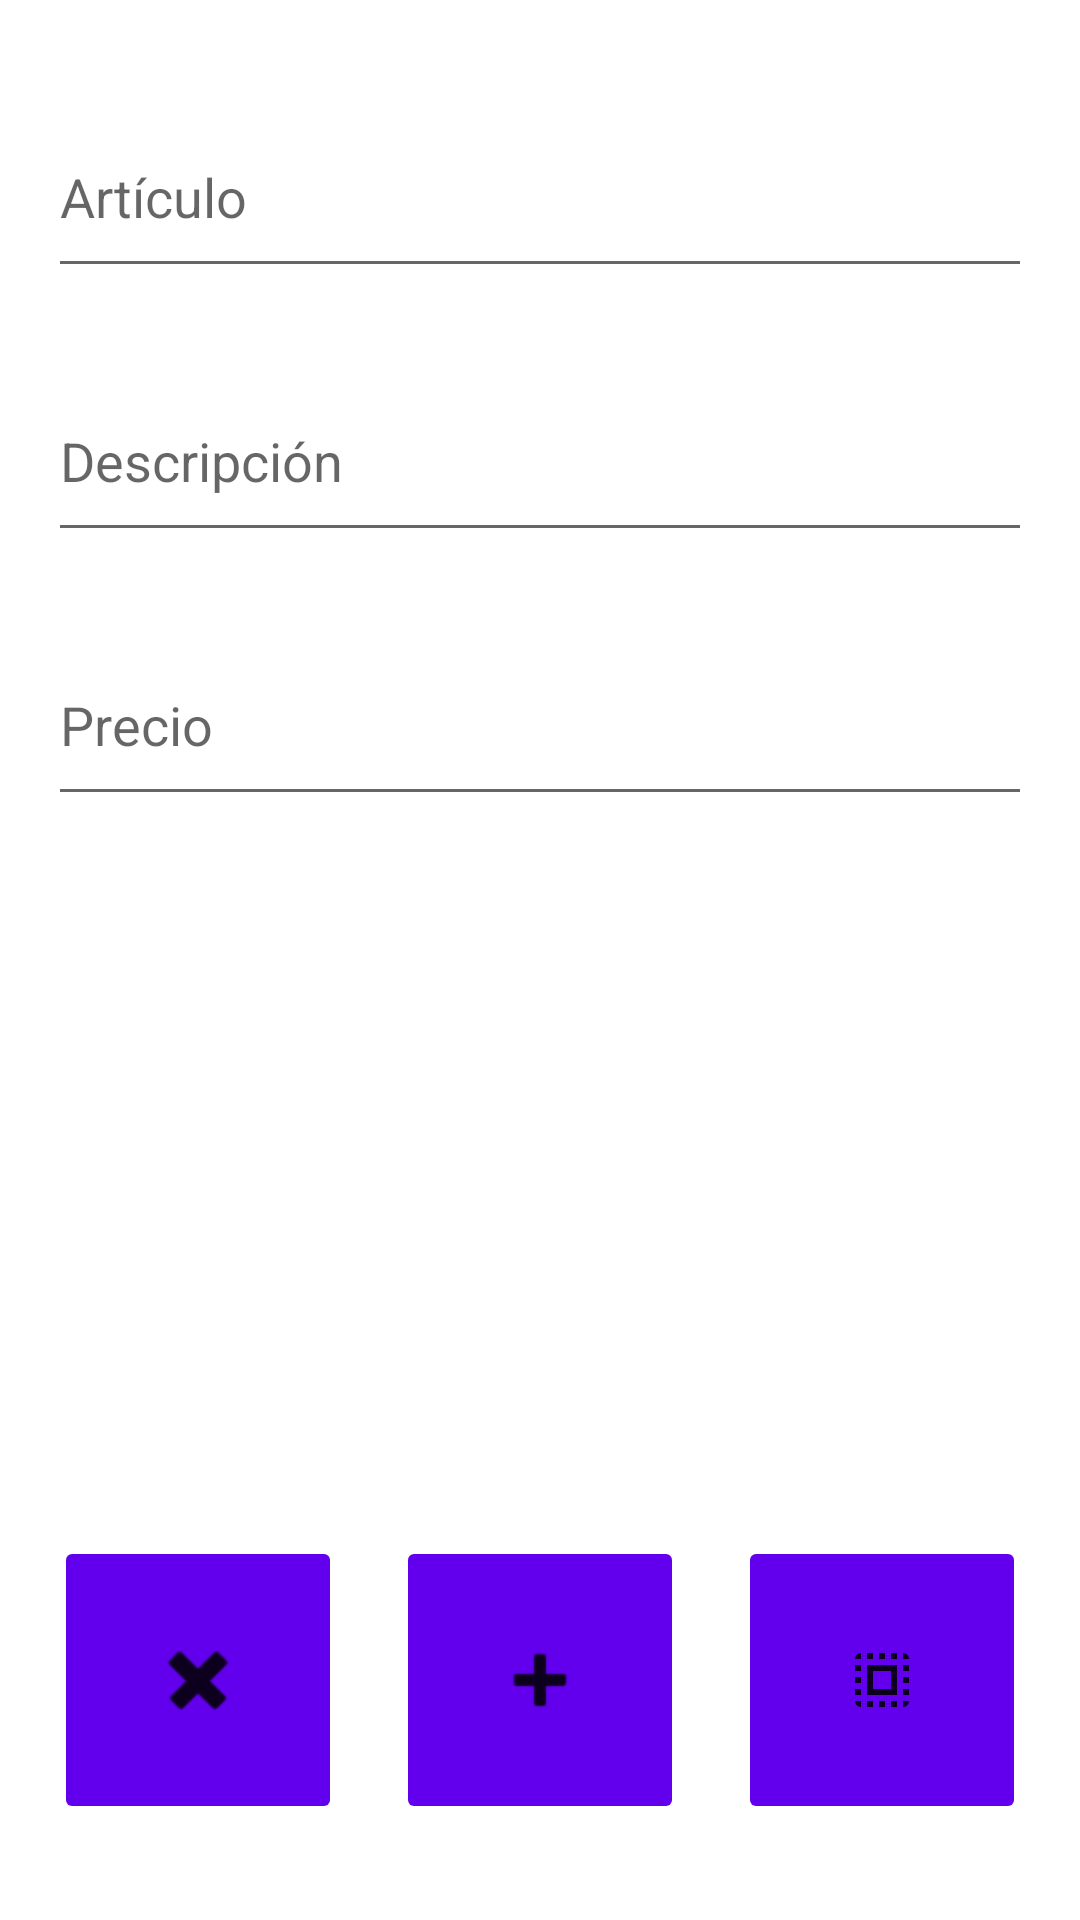

Locate icon controls on the screen. Image size 1080px×1920px, boxes as [x1,y1,x2,y2].
add: [408,1554,672,1806]
delete: [66,1554,330,1806]
